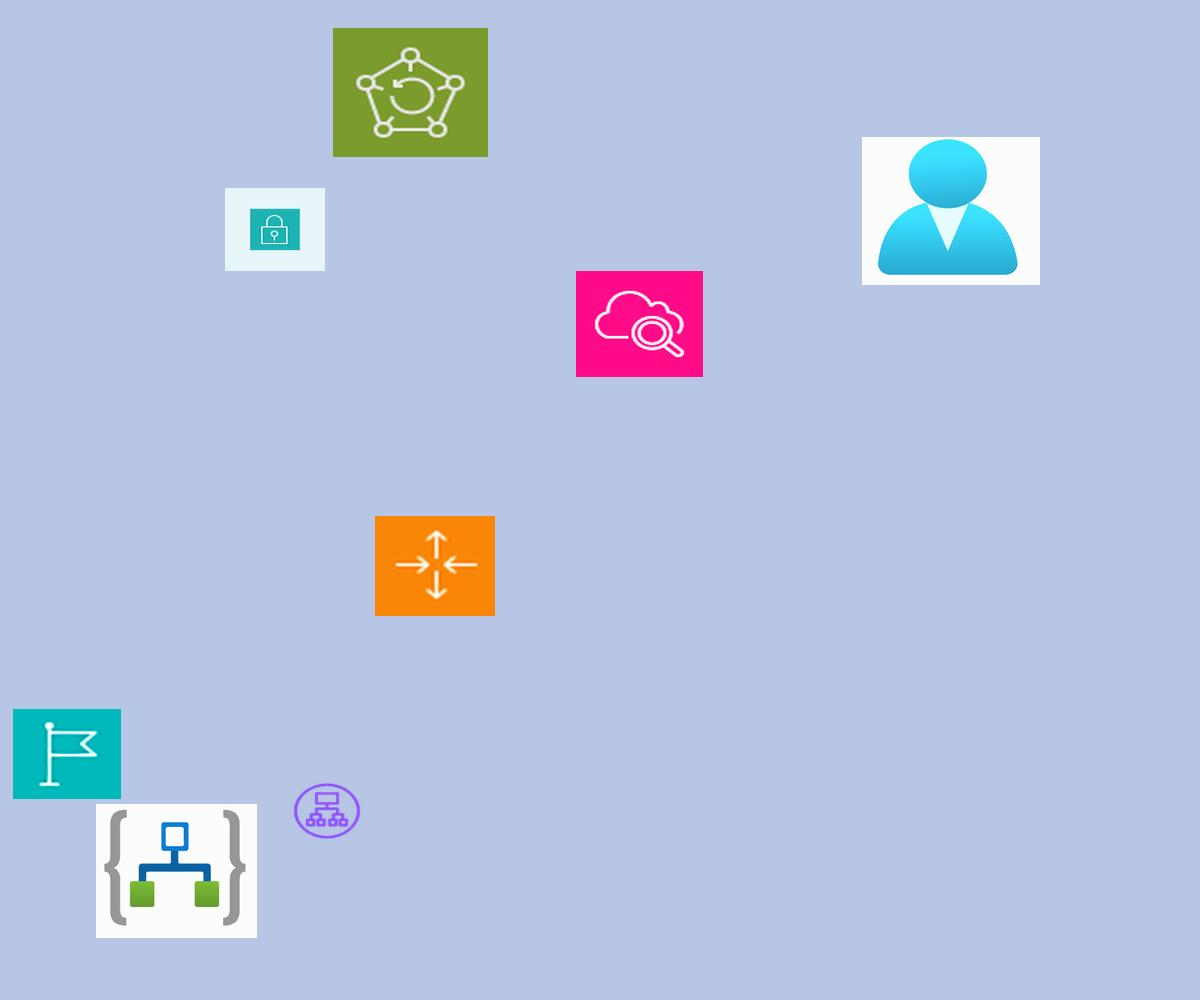AWS-Backup: (333, 28, 488, 157)
AWS-CloudWatch: (576, 271, 703, 377)
AWS-Private-subnet: (225, 188, 325, 271)
AWS-Region: (13, 709, 121, 799)
AWS-Res_Elastic-Load-Balancing_Application-Load-Balancer: (291, 781, 363, 841)
AWS-Scaling-group: (375, 516, 495, 616)
Azure_integration-204-Logic-Apps: (96, 804, 257, 938)
Azure_users: (862, 137, 1040, 285)
